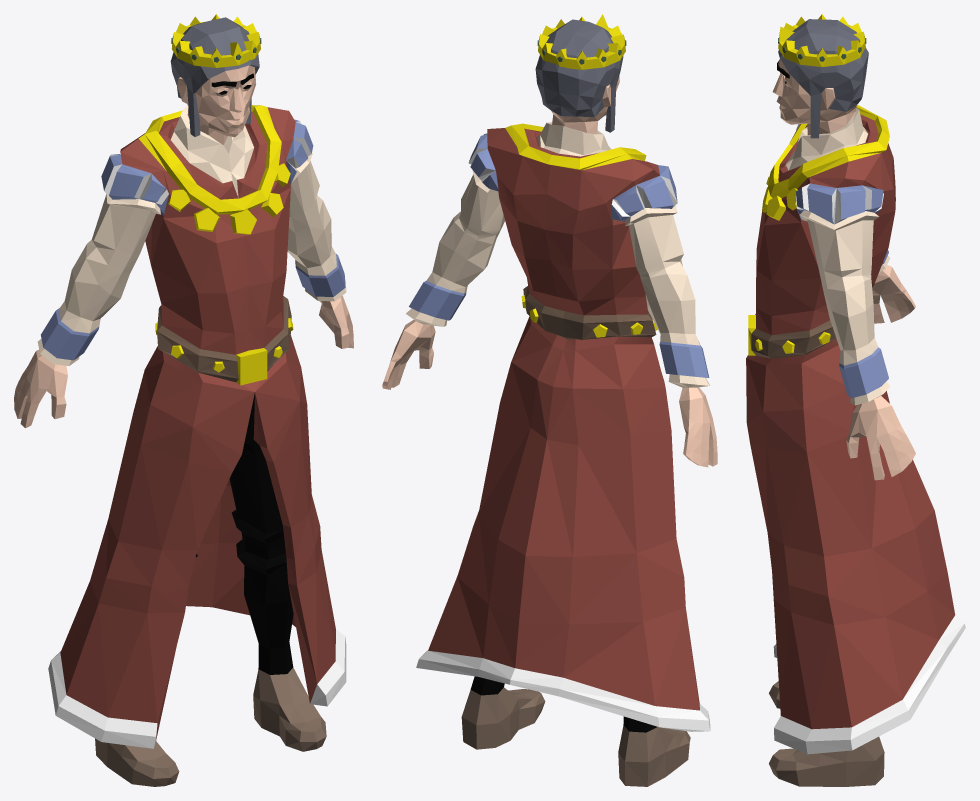
File: king.glb
3 views of the same model, side by side, from view 1: azimuth 30°, elevation 25°; view 2: azimuth 150°, elevation 25°; view 3: azimuth 270°, elevation 25° (orthographic).
Visible parts, largest first — view 1: king.001; view 2: king.001; view 3: king.001.
Boxes of the visible parts, box(x1,y1,x2,y2) form: king.001: box(14, 14, 353, 786); king.001: box(382, 14, 717, 786); king.001: box(746, 14, 965, 786).
Bounding box in the file's own units: 0.8312 × 1.76 × 0.4892.
1 material, 1 textured.
